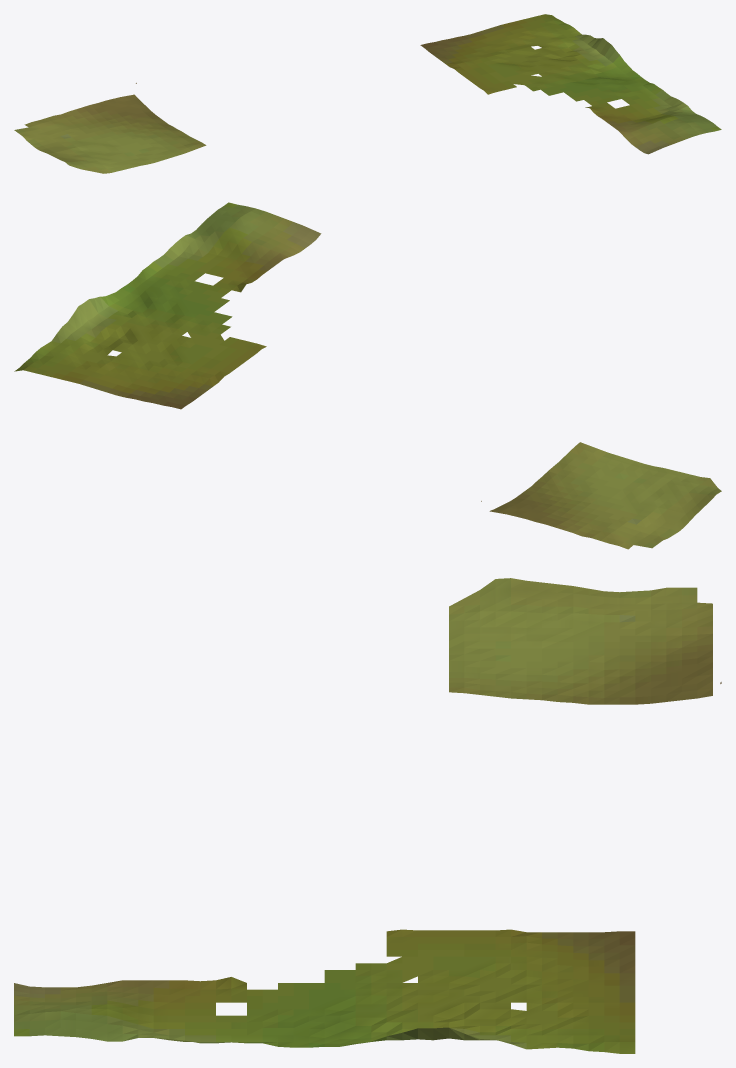
The model's file is cow-wanderplace.fbx.
3 renders of one model, top to bottom at view 1: azimuth 30°, elevation 25°; view 2: azimuth 150°, elevation 25°; view 3: azimuth 270°, elevation 25°, orthographic. The views are drawn at different scales.
Parts seen in each view (by area): view 1: cowpen1.1; view 2: cowpen1.1; view 3: cowpen1.1.
Part boxes in pixels (left/top/right/bottom): cowpen1.1: left=14, top=14, right=721, bottom=173; cowpen1.1: left=14, top=202, right=721, bottom=549; cowpen1.1: left=14, top=578, right=721, bottom=1053.
Size of the model in its own units: 30403 by 963 by 19517.
